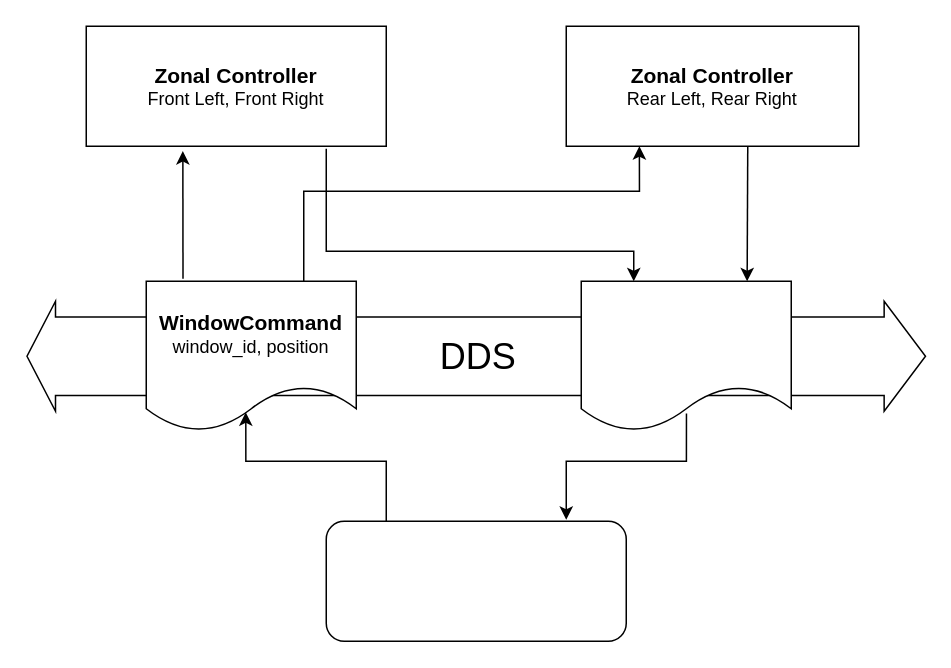
Some shapes in this 951 by 668 pixel diagram are drawn without their labels. The centre of each missing label's shape, as x and y in pixels:
Cockpit Front Left, Front Right Rear Left, Rear Right: pixel 475 580
WindowUpdate window_id, position: pixel 685 355
